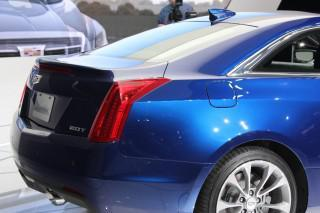cadillac: (27, 71, 45, 86)
